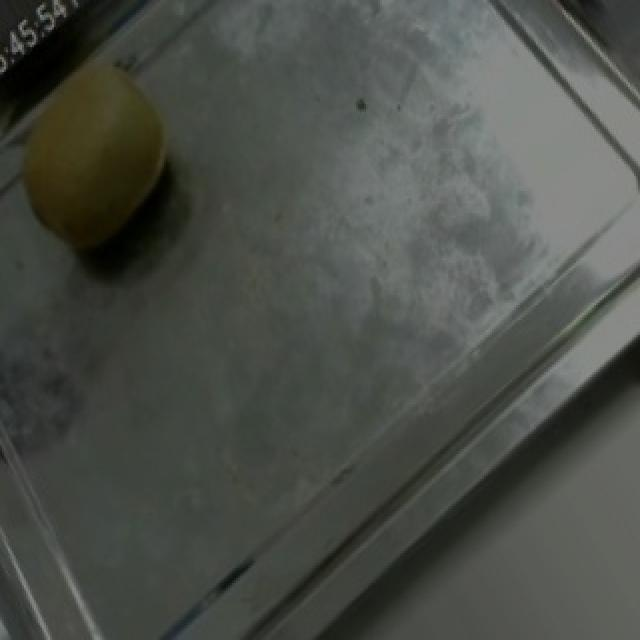Fruit: (0, 2, 214, 292)
